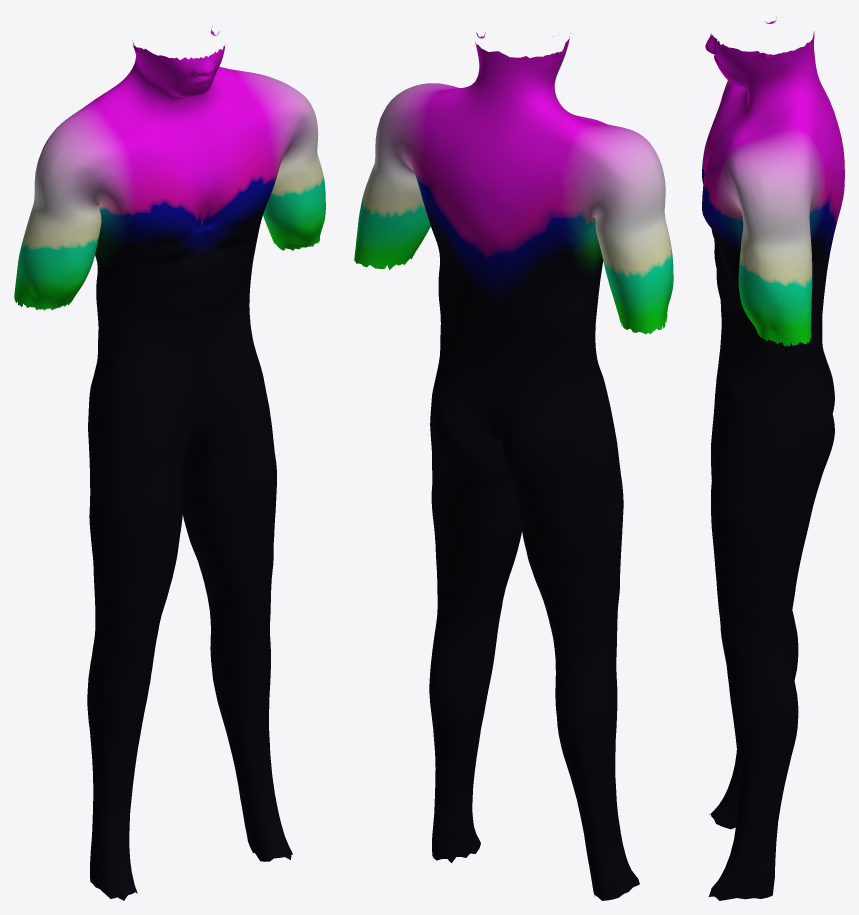
The model's file is suit.glb.
3 renders of one model, left to right at view 1: azimuth 30°, elevation 25°; view 2: azimuth 150°, elevation 25°; view 3: azimuth 270°, elevation 25°, orthographic. The views are drawn at different scales.
Bounding box in the file's own units: 0.6104 × 1.63 × 0.2537.
